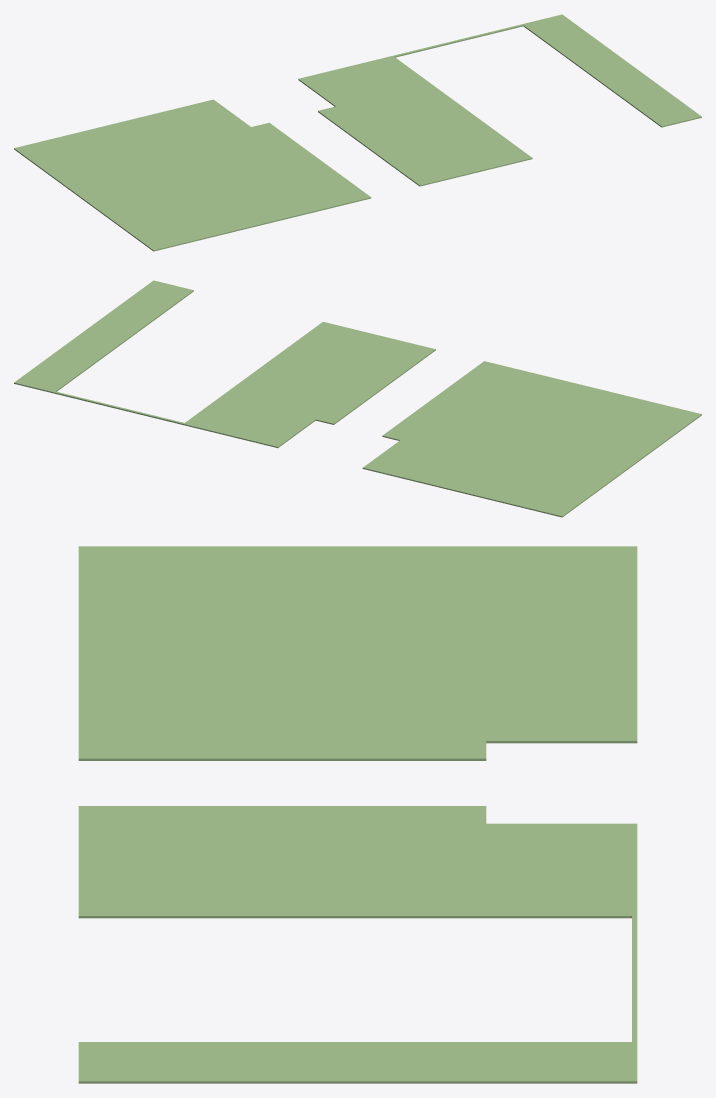
Rendered from lawn_front.glb.
3 views of the same model, one above another, from view 1: azimuth 30°, elevation 25°; view 2: azimuth 150°, elevation 25°; view 3: azimuth 270°, elevation 25° (orthographic). The views are drawn at different scales.
Parts seen in each view (by area): view 1: lawn_front_grass; view 2: lawn_front_grass; view 3: lawn_front_grass.
Boxes of the visible parts, x1=… form: lawn_front_grass: x1=14, y1=14, x2=701, y2=251; lawn_front_grass: x1=14, y1=280, x2=701, y2=517; lawn_front_grass: x1=78, y1=546, x2=637, y2=1083.
Bounding box in the file's own units: 13.6 × 0.028 × 6.
